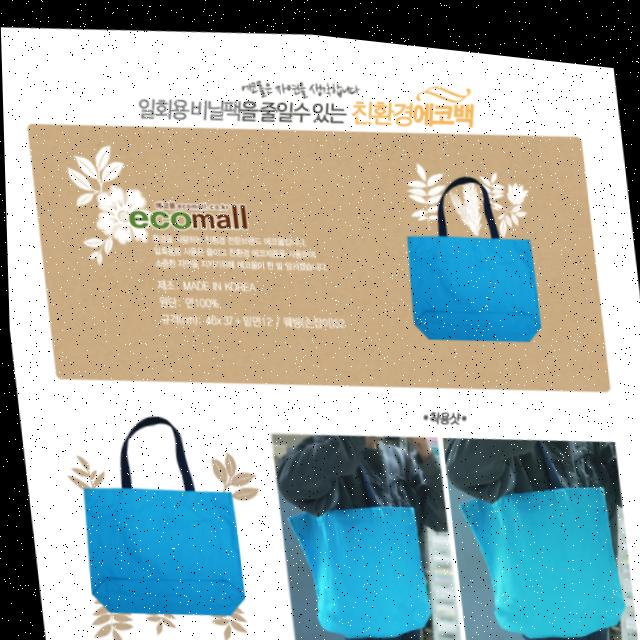ecobag: (51, 393, 256, 627), (447, 414, 630, 640)
